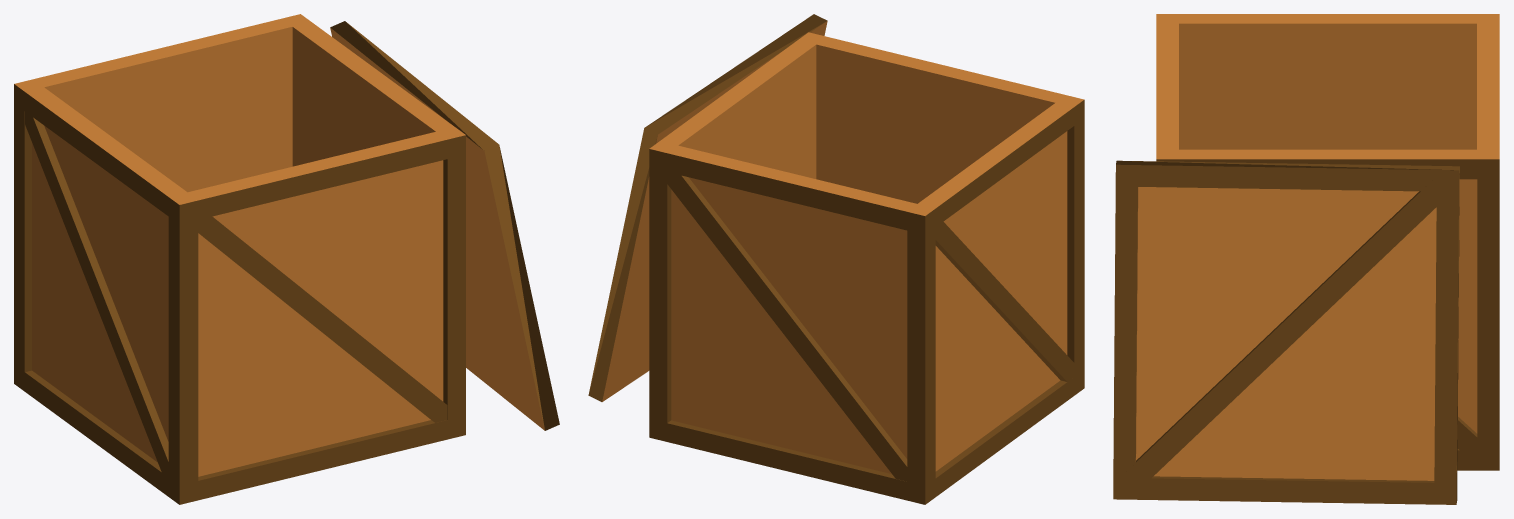
Rendered from Chest.fbx.
3 views of the same model, side by side, from view 1: azimuth 30°, elevation 25°; view 2: azimuth 150°, elevation 25°; view 3: azimuth 270°, elevation 25° (orthographic). The views are drawn at different scales.
Visible parts, largest first — view 1: BoxBase, BoxLid; view 2: BoxBase, BoxLid; view 3: BoxLid, BoxBase.
Part boxes in pixels (x1,y1,x2,y2): BoxBase: (14,14,465,504); BoxLid: (330,21,559,430); BoxBase: (649,32,1084,504); BoxLid: (588,14,827,401); BoxLid: (1113,160,1459,504); BoxBase: (1156,14,1499,470).
Bounding box in the file's own units: 259 × 201 × 225.
